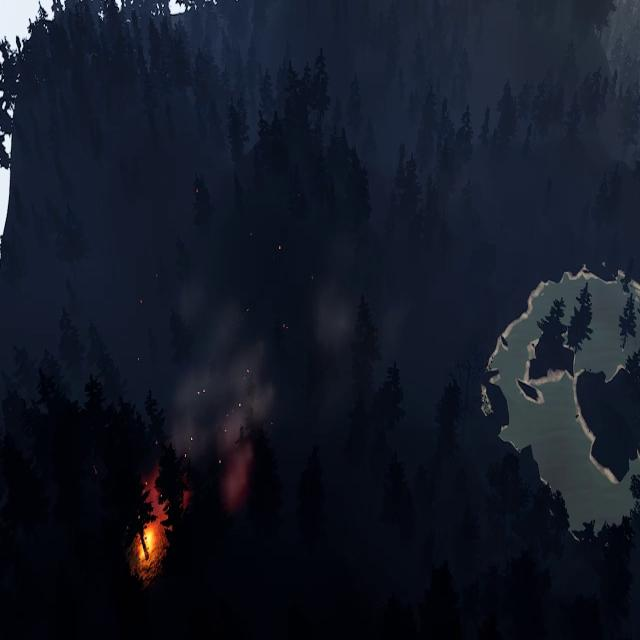fire: (134, 466, 171, 567)
smoke: (165, 279, 272, 514)
